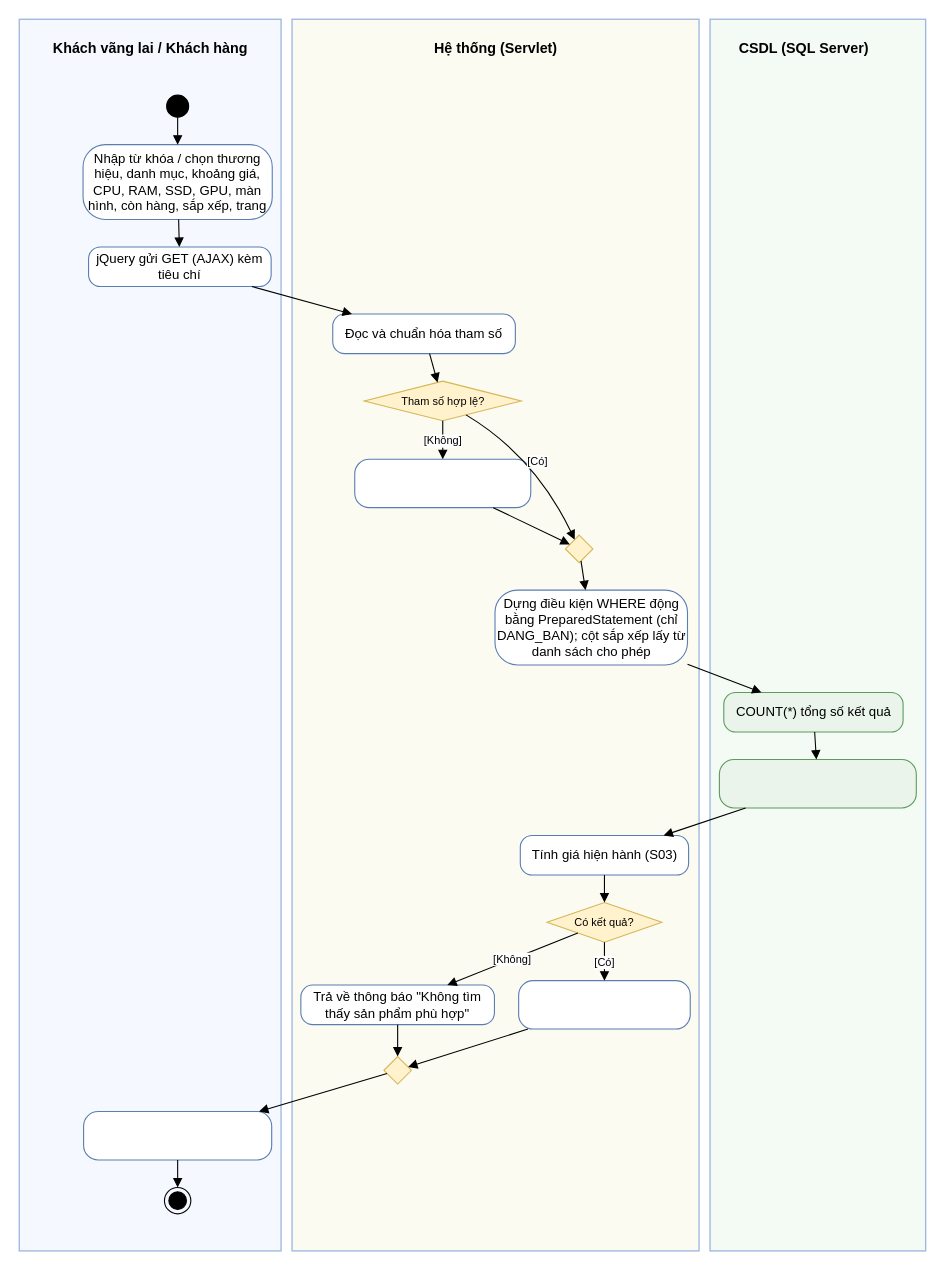
Some shapes in this 946 by 1271 pixel diagram are drawn without their labels. The shapes that lost their labels are listed below. From the top down, each one's centre as x and y in pixels, then its label:
point 442,483: Bỏ tham số sai, dùng giá trị mặc định (trang 1, sắp xếp mới nhất)
point 817,783: SELECT ... ORDER BY ... OFFSET ? ROWS FETCH NEXT 12 ROWS ONLY
point 604,1004: Trả về danh sách + phân trang (JSP fragment / JSON)
point 177,1135: jQuery cập nhật danh sách, thanh phân trang và URL (không tải lại trang)
